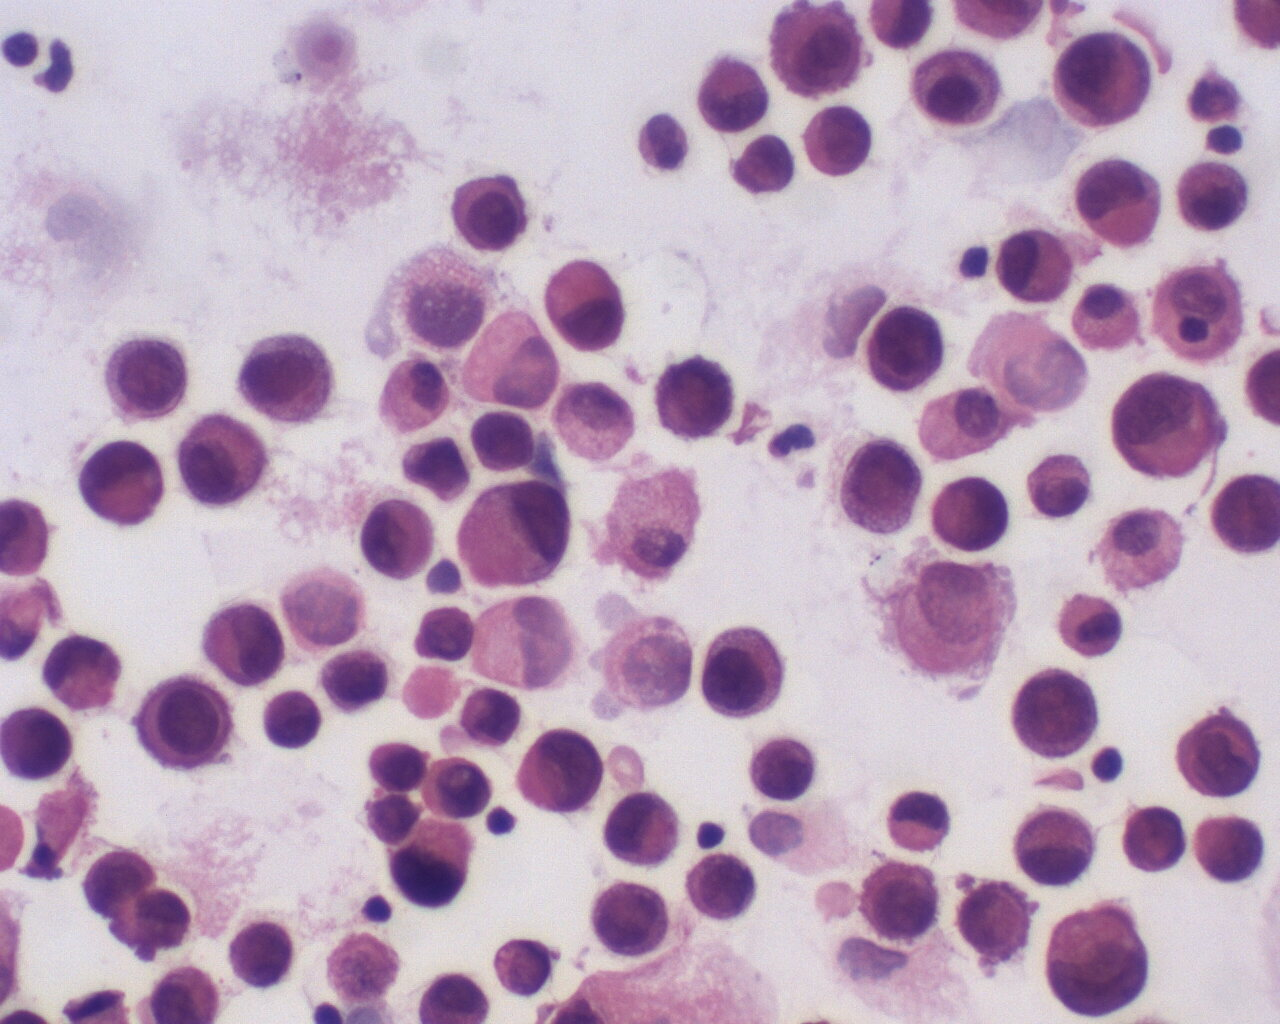ab: (1113, 362, 1240, 487), (1038, 894, 1162, 1018), (461, 475, 575, 592), (1048, 23, 1157, 133), (137, 675, 239, 782), (642, 343, 749, 443), (693, 616, 792, 722), (511, 722, 616, 820), (834, 430, 928, 539), (238, 327, 336, 427), (95, 327, 197, 423), (855, 298, 958, 392), (1072, 152, 1166, 255), (1006, 664, 1101, 764), (1169, 707, 1269, 802), (443, 164, 543, 256), (75, 432, 165, 528), (197, 597, 290, 686), (860, 856, 945, 945), (694, 52, 775, 137), (592, 879, 674, 960), (1176, 156, 1256, 236), (1, 702, 84, 781), (1191, 806, 1269, 888), (929, 476, 1013, 553), (604, 791, 685, 867), (354, 498, 432, 578), (1022, 445, 1100, 522), (741, 731, 817, 810), (685, 850, 763, 926), (801, 102, 875, 183), (228, 916, 300, 995), (466, 408, 543, 478), (1117, 802, 1189, 876), (420, 753, 494, 824), (316, 643, 393, 711), (489, 930, 561, 997), (260, 685, 325, 757), (460, 680, 527, 747), (367, 738, 434, 793)
meso: (1067, 280, 1151, 354)
